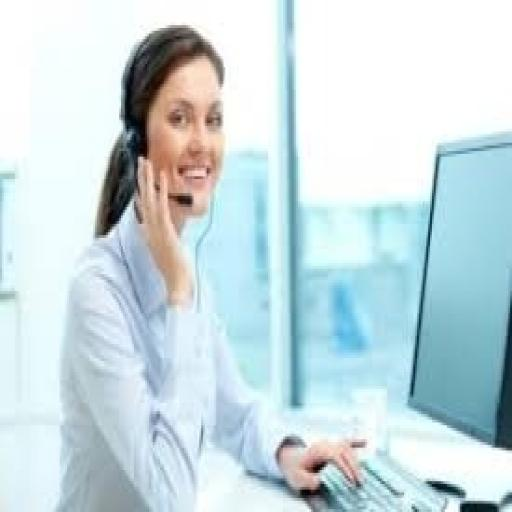calling: (50, 22, 370, 510)
